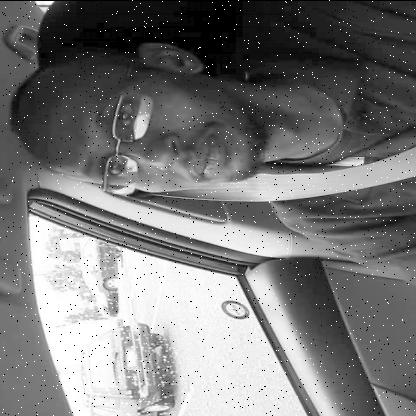seatbelt: (14, 65, 416, 212)
